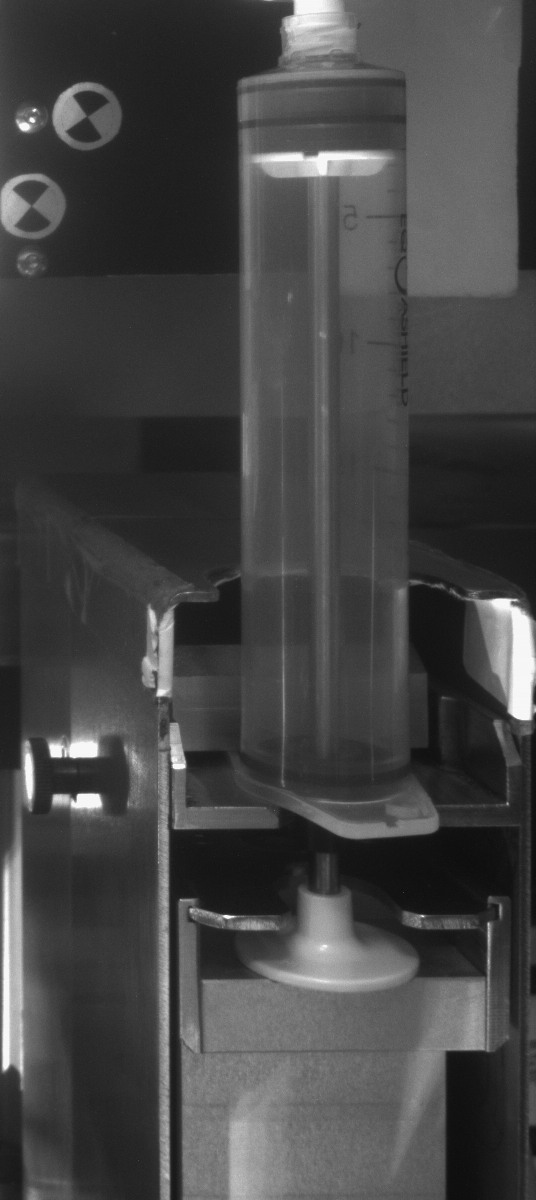piston: (235, 95, 409, 180)
